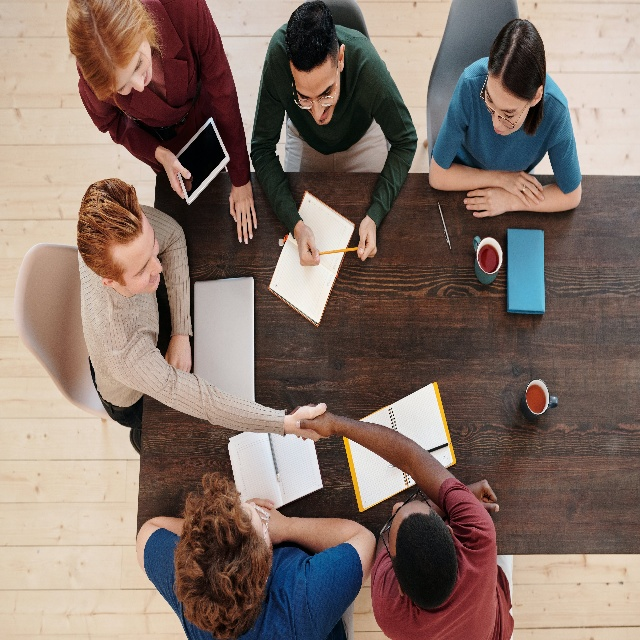Gafas: (379, 486, 434, 562), (479, 71, 529, 129), (291, 56, 339, 110), (252, 503, 270, 545)
Sin_guantes: (498, 170, 545, 208), (229, 182, 257, 244), (161, 149, 192, 201), (292, 401, 330, 442), (289, 403, 331, 440), (463, 185, 508, 217), (294, 220, 321, 267), (164, 333, 192, 376), (259, 505, 286, 545), (357, 216, 378, 262), (244, 496, 274, 510)
